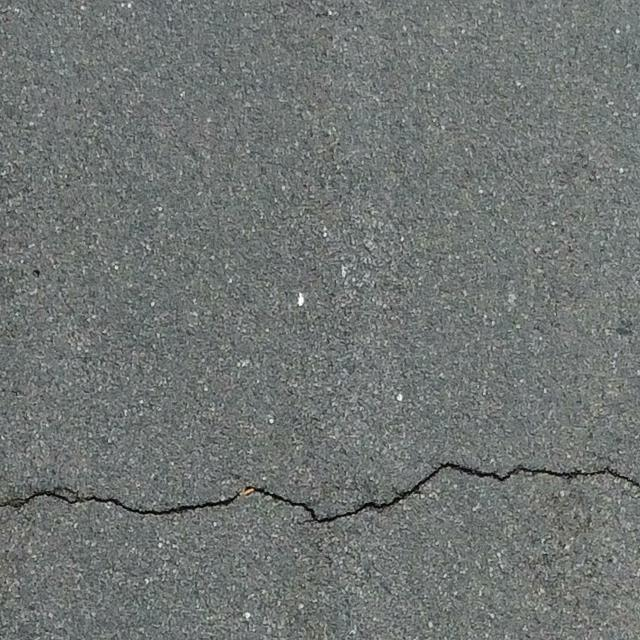TransverseCrack: (1, 461, 640, 525)
